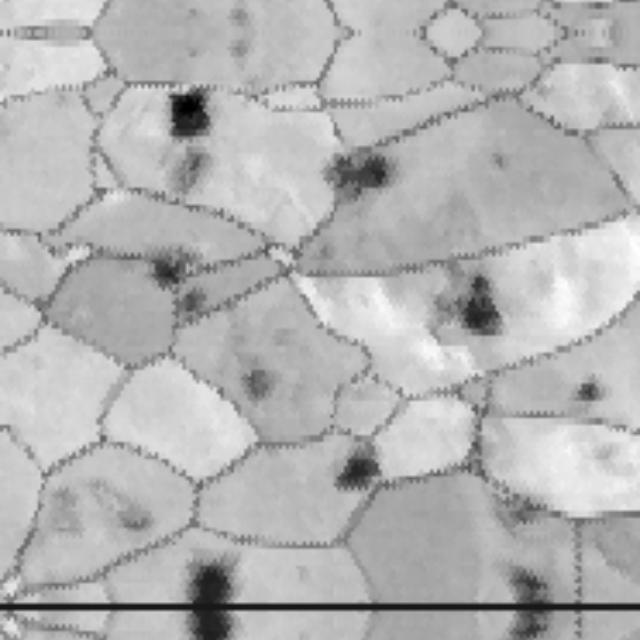good_void: (53, 477, 151, 541), (432, 262, 500, 337), (326, 153, 389, 202), (158, 150, 216, 198), (165, 92, 209, 139), (192, 568, 242, 605), (239, 357, 273, 405), (153, 255, 202, 287), (338, 456, 381, 490), (192, 611, 242, 640), (506, 579, 556, 604), (506, 612, 556, 637), (487, 153, 517, 177), (312, 246, 336, 267), (228, 41, 253, 61), (228, 6, 253, 26), (179, 296, 205, 315), (579, 385, 604, 403)
